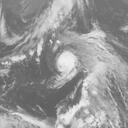cyclone: (55, 48, 80, 77)
